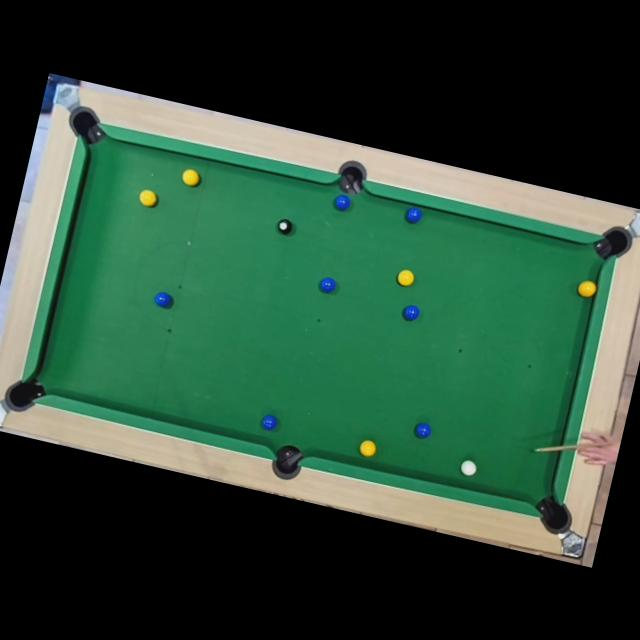Ball: (136, 188, 158, 208), (258, 412, 279, 432), (357, 438, 378, 458), (412, 421, 432, 440), (396, 268, 415, 288), (330, 193, 350, 212), (318, 275, 337, 294), (152, 290, 172, 308), (180, 168, 200, 186), (578, 278, 596, 298), (400, 304, 420, 322), (403, 206, 422, 224), (459, 459, 478, 477), (275, 218, 293, 235)
